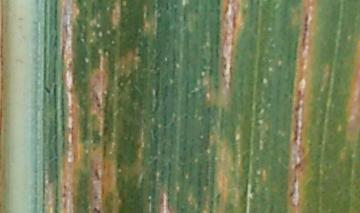tarspot: (96, 102, 102, 109), (95, 94, 100, 101), (93, 194, 98, 200), (62, 192, 68, 196)
